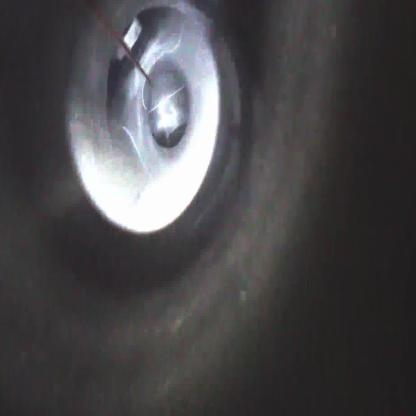NoCrack: (58, 0, 237, 237)
